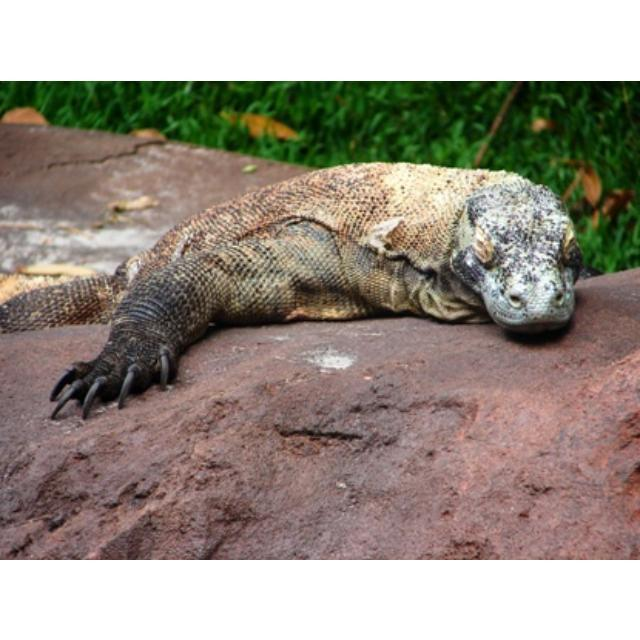KomodoDragon: (1, 158, 580, 429)
